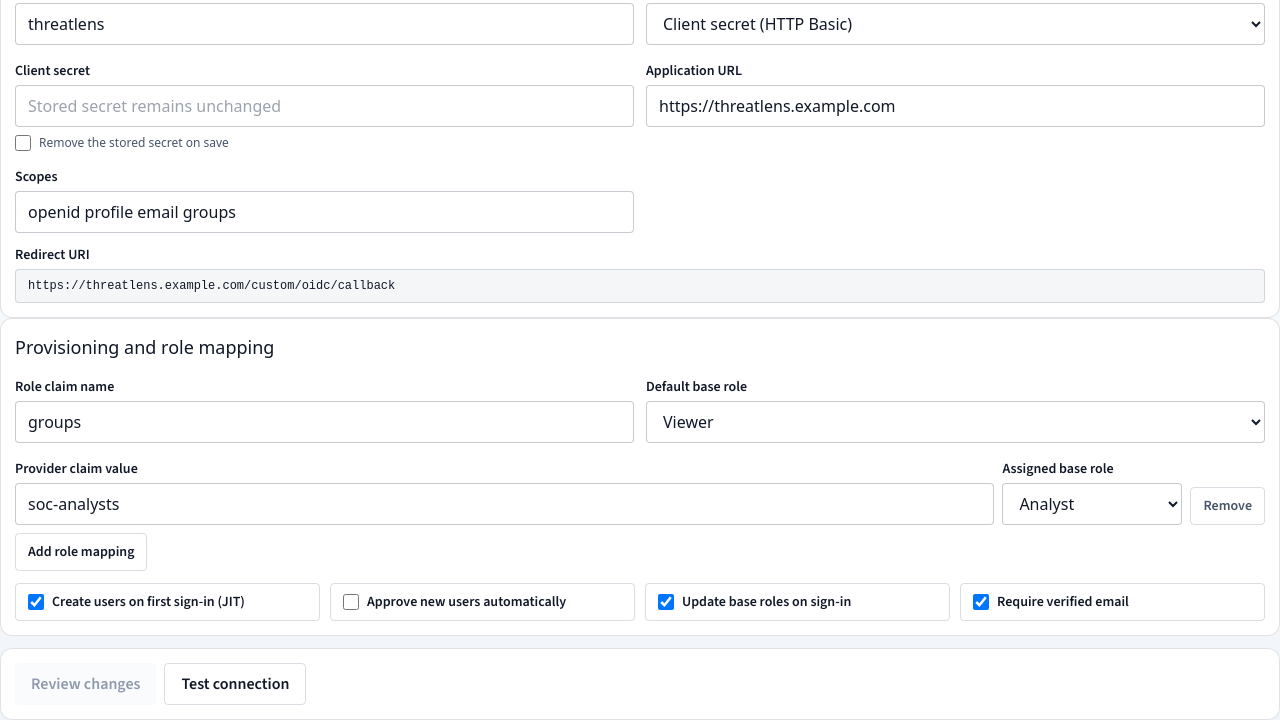
Scenario: IdentitySettingsPage › warns when JIT provisioning accepts unverified internal email identifiers
(page scrolled)
Click the checkbox labelled "Require verified email" at (981,602), box x1=973 y1=594 x2=989 y2=610
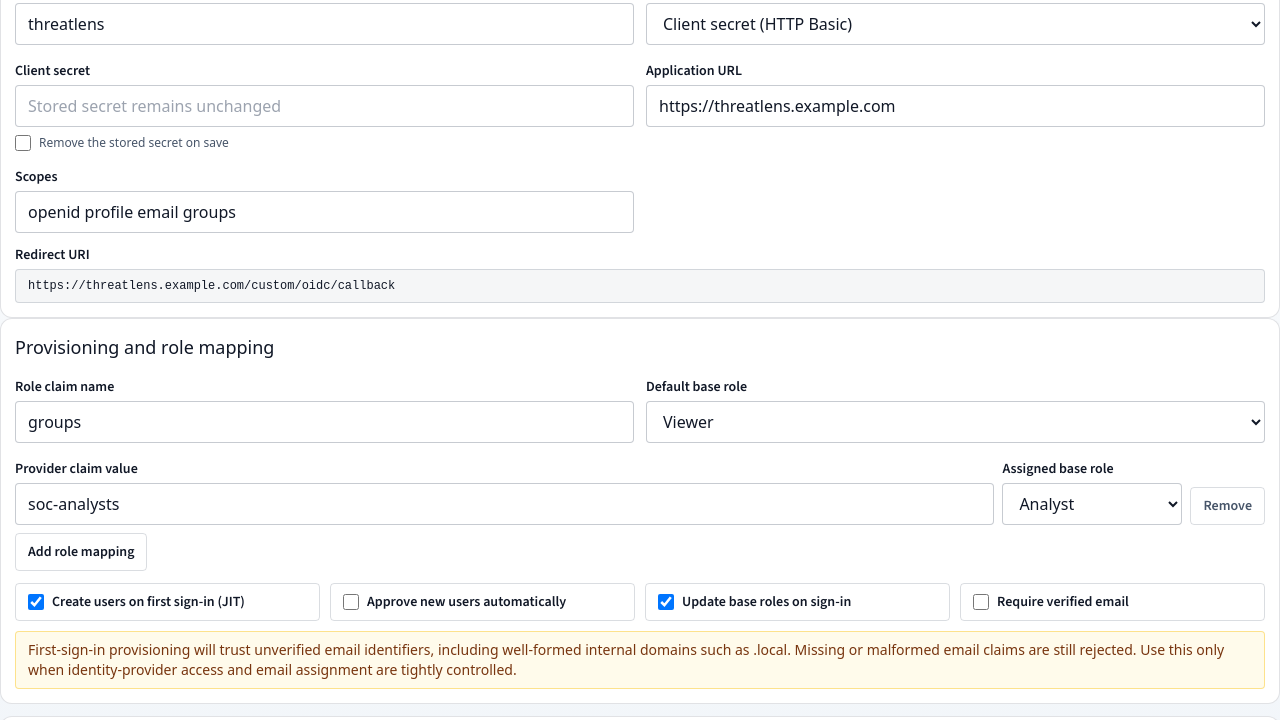
Check: the message shows ".local", box x1=28 y1=640 x2=1224 y2=679
Check: the message shows "malformed", box x1=28 y1=640 x2=1224 y2=679
